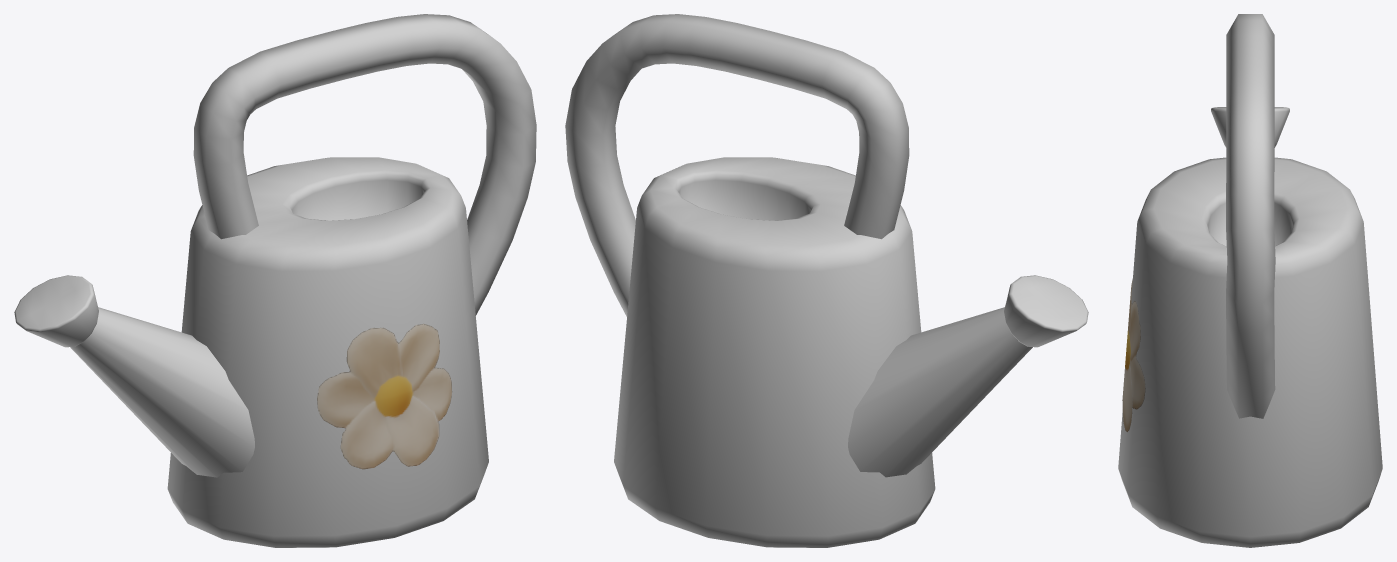
Rendered from pink_watering_can.fbx.
3 views of the same model, side by side, from view 1: azimuth 30°, elevation 25°; view 2: azimuth 150°, elevation 25°; view 3: azimuth 270°, elevation 25° (orthographic). The views are drawn at different scales.
Visible parts, largest first — view 1: pink_watering_can, watering_can_label; view 2: pink_watering_can; view 3: pink_watering_can, watering_can_label.
Part boxes in pixels (x1,y1,x2,y2): pink_watering_can: [14, 14, 536, 547]; watering_can_label: [317, 323, 452, 469]; pink_watering_can: [565, 14, 1088, 547]; pink_watering_can: [1118, 14, 1382, 547]; watering_can_label: [1122, 278, 1145, 431].
Size of the model in its own units: 2.23 by 1.91 by 1.04.
